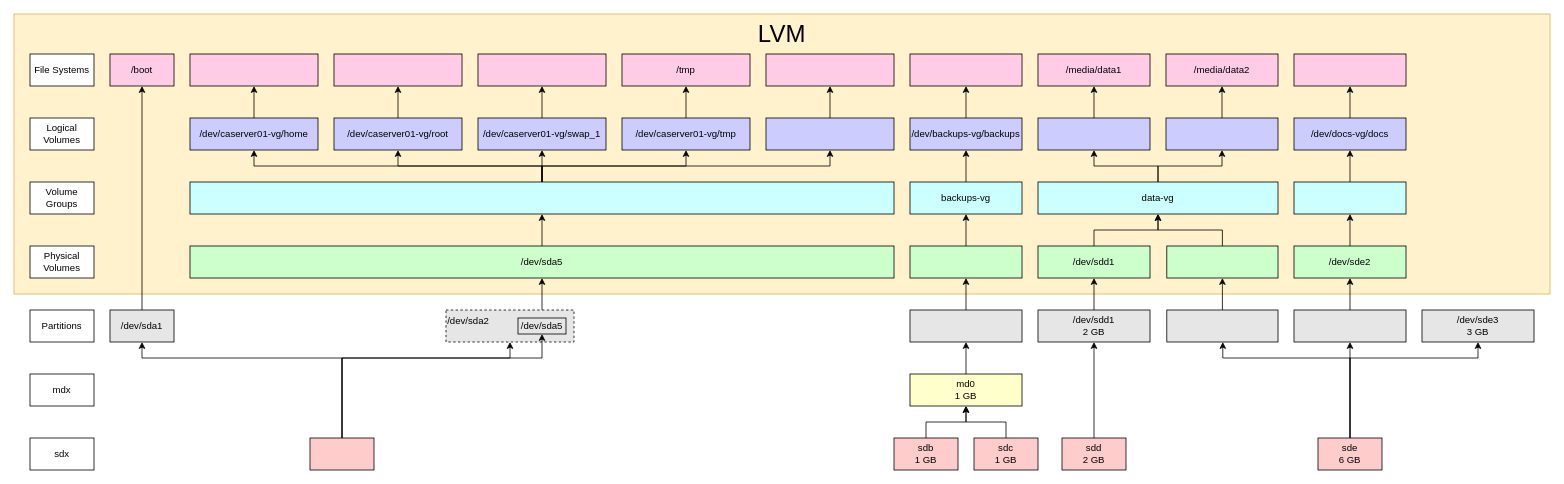
The diagram is 1564 pixels wide and 484 high, and some of its shapes have lost their labels. The shapes that lost their labels are listed below. From the top down, each one's box as (x1, y1, x2, y2) in pixels, then its label:
(189, 53, 318, 86): /home
(333, 53, 462, 86): /root
(477, 53, 606, 86): none
(765, 53, 894, 86): /var
(909, 53, 1022, 86): /media/backups
(1293, 53, 1406, 86): /media/docs
(765, 117, 894, 150): /dev/caserver01-vg/var
(1037, 117, 1150, 150): /dev/data-vg/data1 (20% data-vg)
(1165, 117, 1278, 150): /dev/data-vg/data2 (80% data-vg)
(189, 181, 894, 214): caserver01-vg
(1293, 181, 1406, 214): docs-vg
(909, 245, 1022, 278): /dev/md0
(1166, 245, 1278, 278): /dev/sde1
(909, 309, 1022, 342): /dev/md0 1 GB
(1166, 309, 1278, 342): /dev/sde1 2 GB
(1293, 309, 1406, 342): /dev/sde2 1 GB
(309, 437, 374, 470): sda 8 GB
